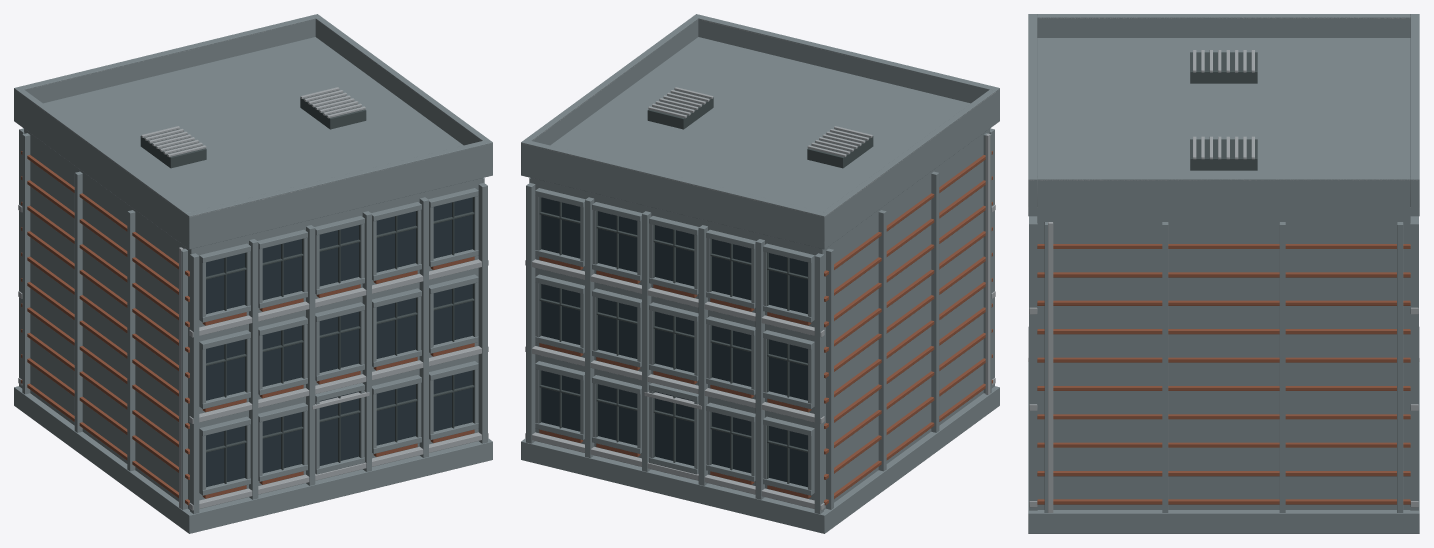
Rendered from SM_StreetBlock_00.fbx.
3 views of the same model, side by side, from view 1: azimuth 30°, elevation 25°; view 2: azimuth 150°, elevation 25°; view 3: azimuth 270°, elevation 25° (orthographic). The views are drawn at different scales.
Visible parts, largest first — view 1: SM_StreetBlock_00; view 2: SM_StreetBlock_00; view 3: SM_StreetBlock_00.
Boxes of the visible parts, bbox=[...] form: SM_StreetBlock_00: bbox=[14, 14, 492, 533]; SM_StreetBlock_00: bbox=[521, 14, 999, 533]; SM_StreetBlock_00: bbox=[1028, 14, 1419, 533].
Bounding box in the file's own units: 100 × 100 × 100.
